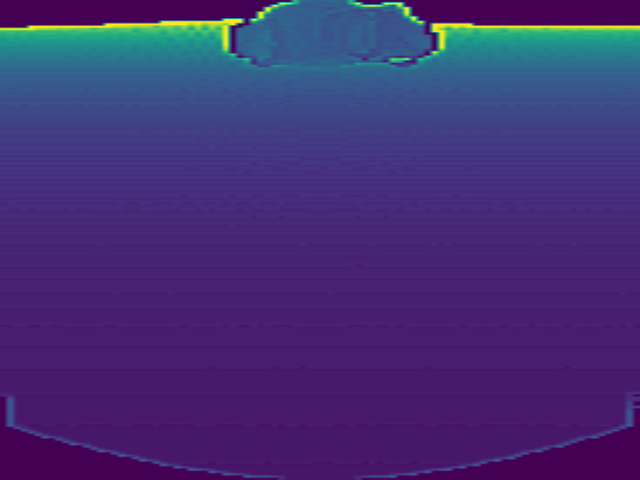car_0027: (228, 2, 443, 74)
